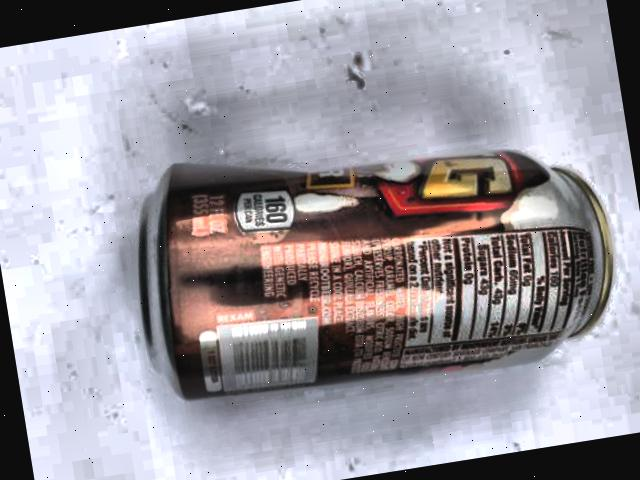Bottles: (113, 73, 640, 469)
